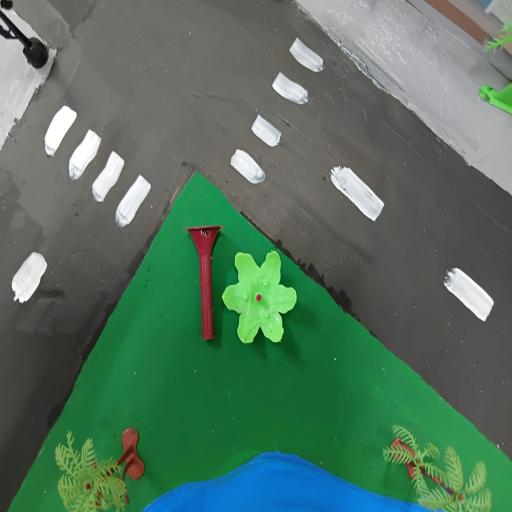fallen trees: (182, 215, 306, 358)
